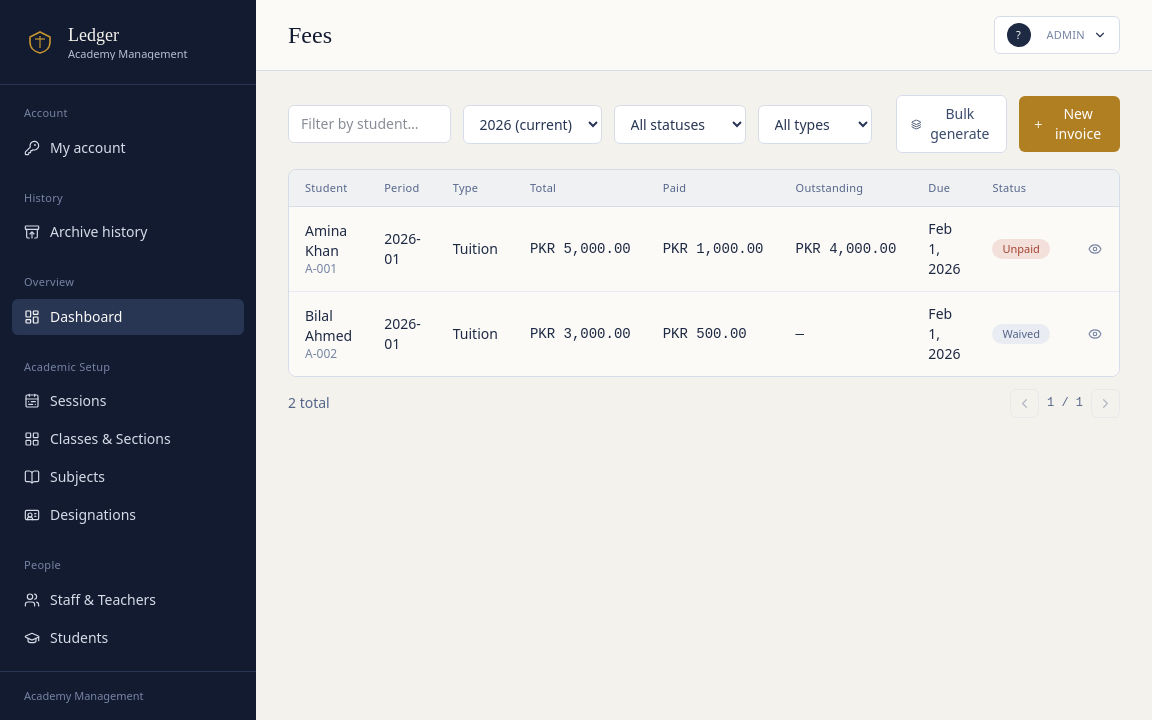
Test: Invoice detail modal › surfaces a rejected payment (e.g. overpayment) as a readable error, not a crash
Click the button named "View invoice" in the row of "Amina Khan" at (1095, 249), box x1=1082 y1=236 x2=1108 y2=262
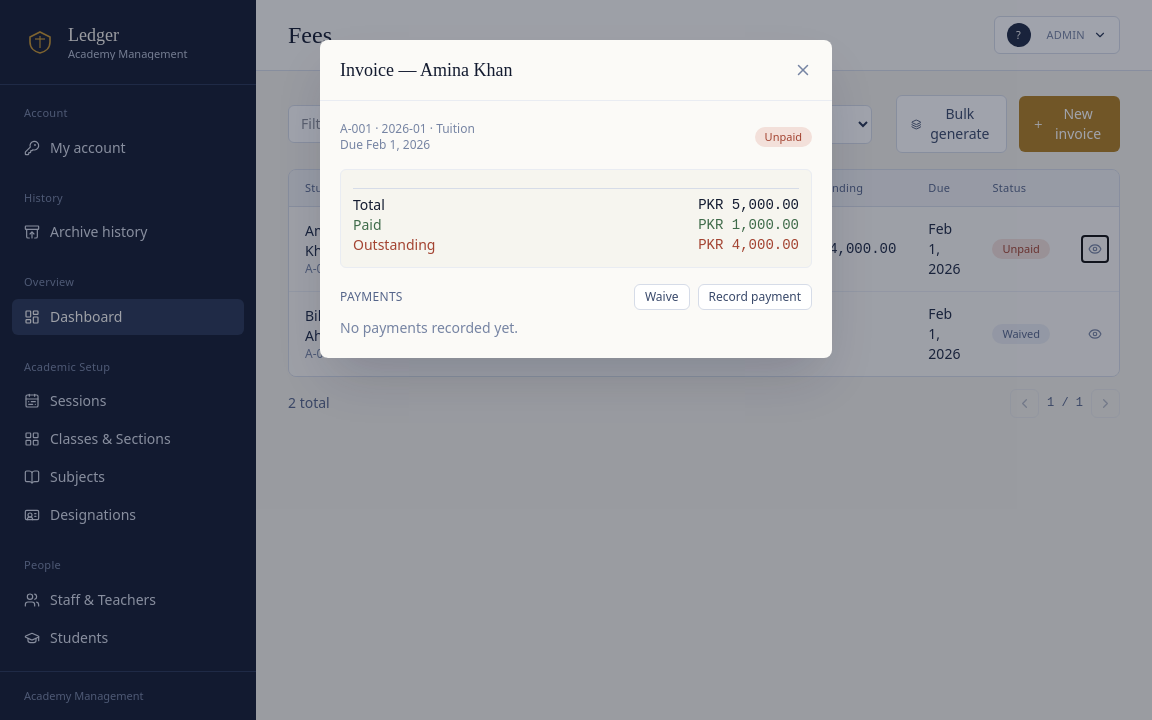
Click the button "Record payment" at (755, 297), box x1=698 y1=284 x2=812 y2=310
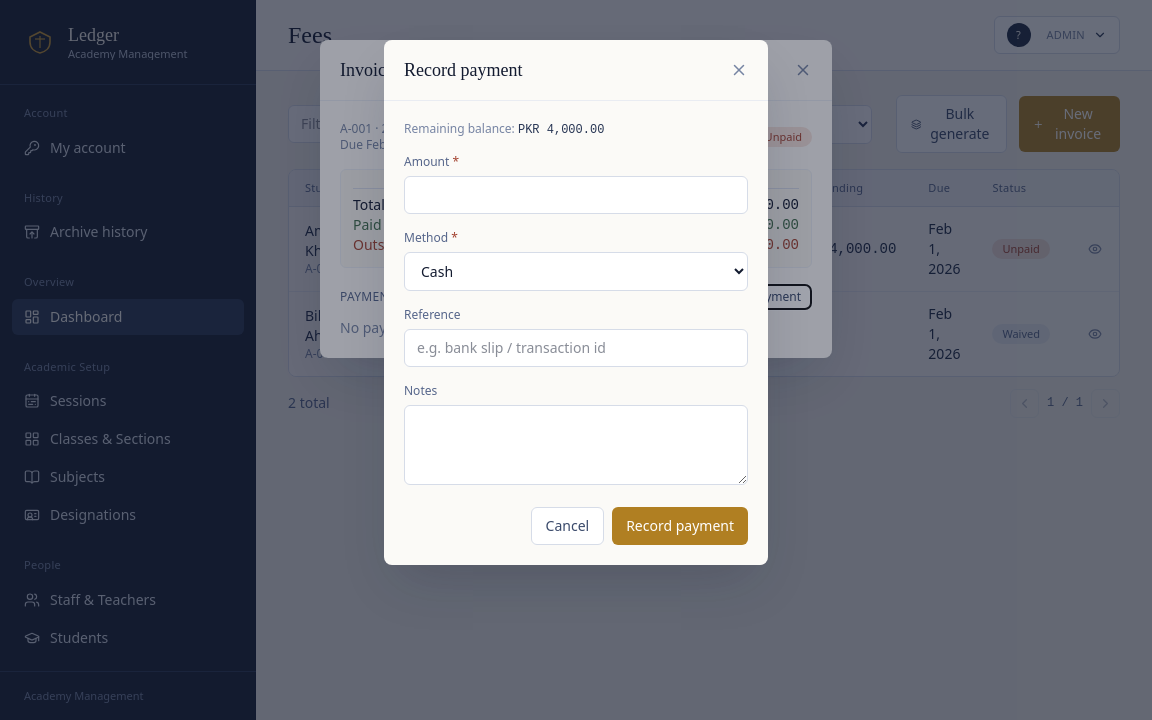
Type "9999" into the number field at (576, 195), box x1=404 y1=176 x2=748 y2=214
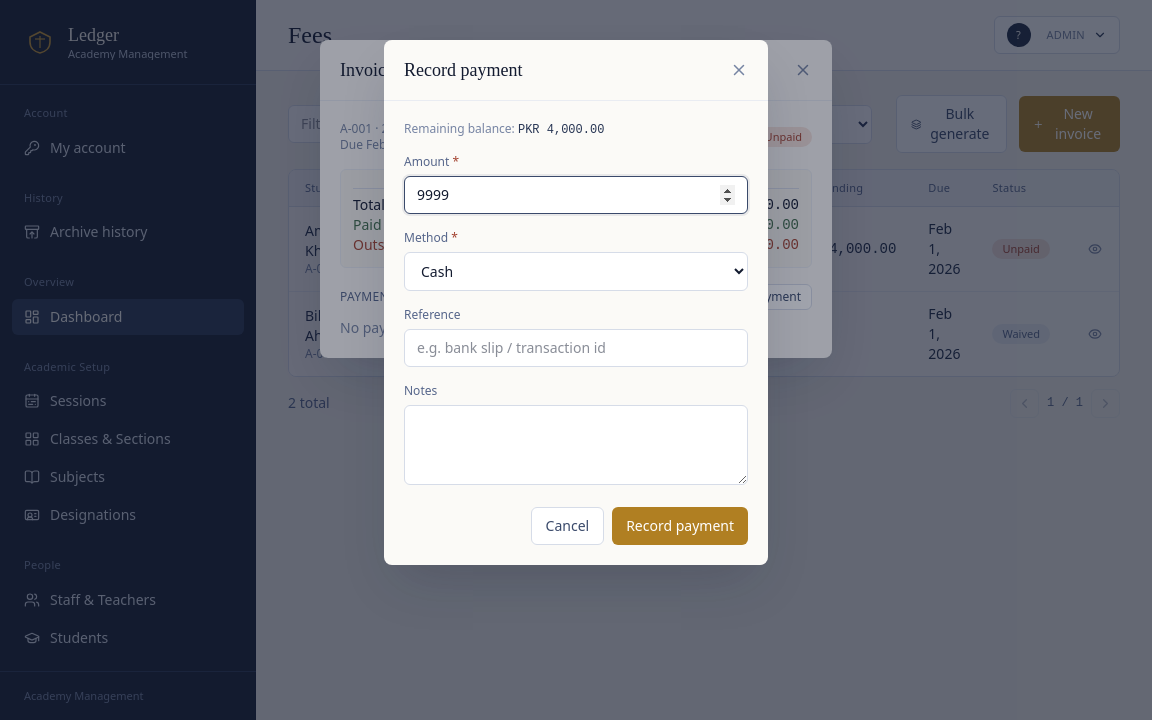
Click the button "Record payment" at (680, 526), box x1=612 y1=507 x2=748 y2=545
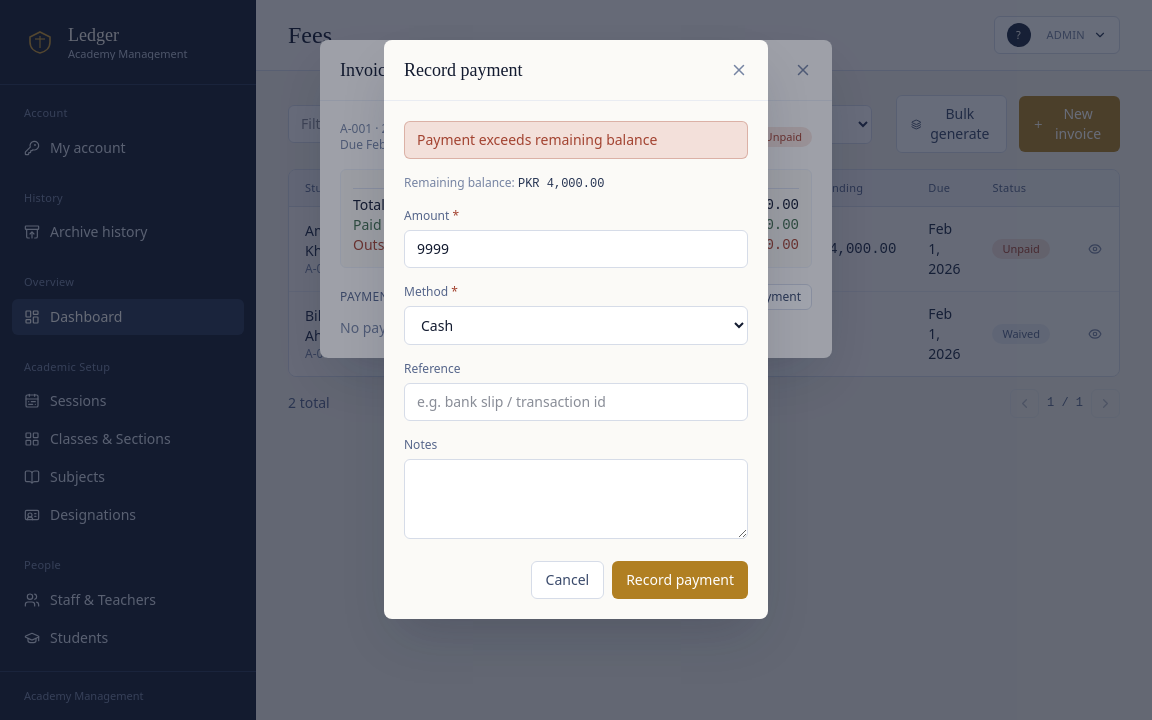
Check: the text "Payment exceeds remaining balance" is shown, box x1=404 y1=121 x2=748 y2=159
